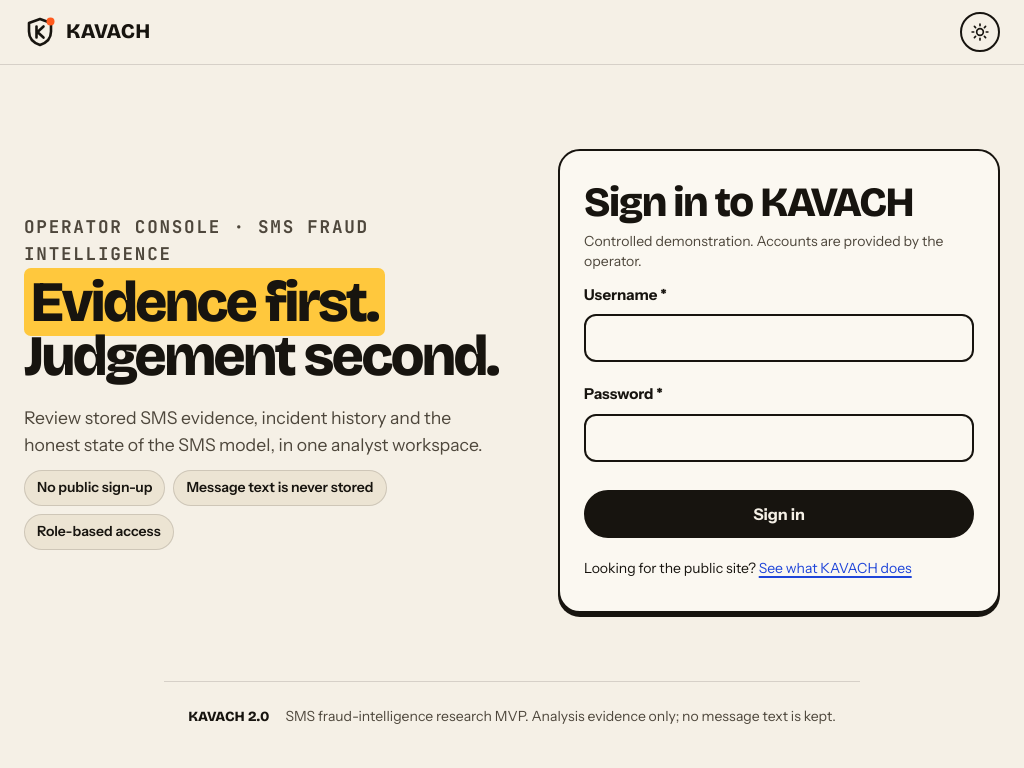
Test: sign in › disables sign-in for the Retry-After period after 429
Type "analyst.one" into the field labelled "Username *" at (779, 338), box x1=584 y1=314 x2=974 y2=362
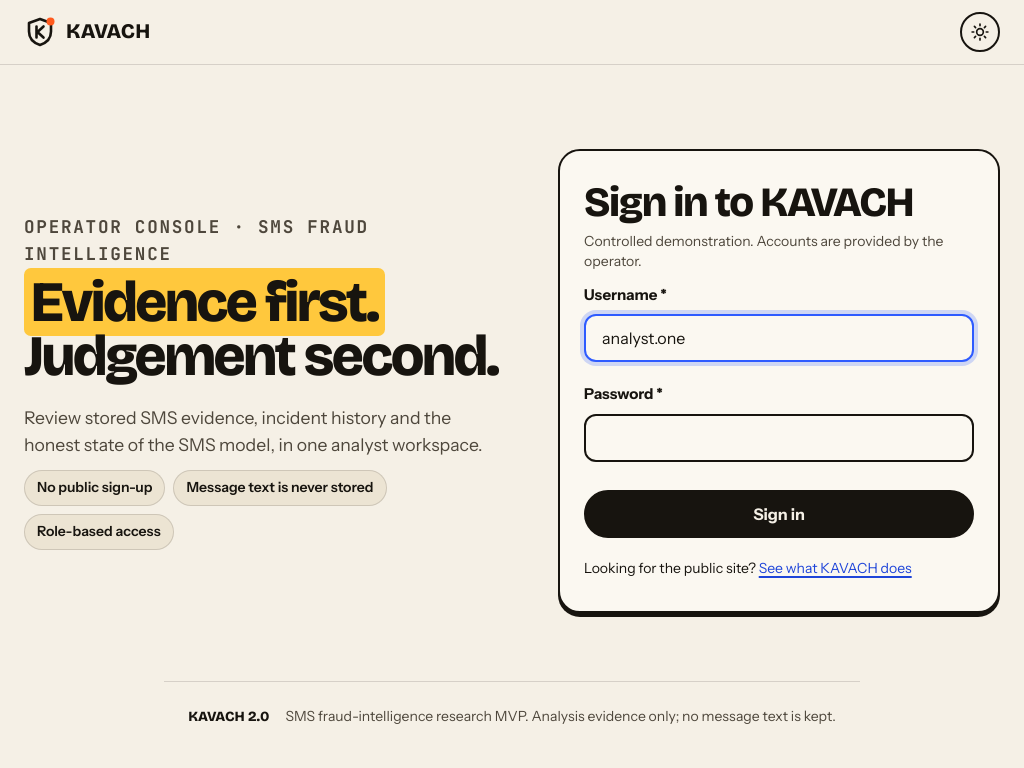
Type "correct horse" into the password field labelled "Password *" at (779, 438), box x1=584 y1=414 x2=974 y2=462
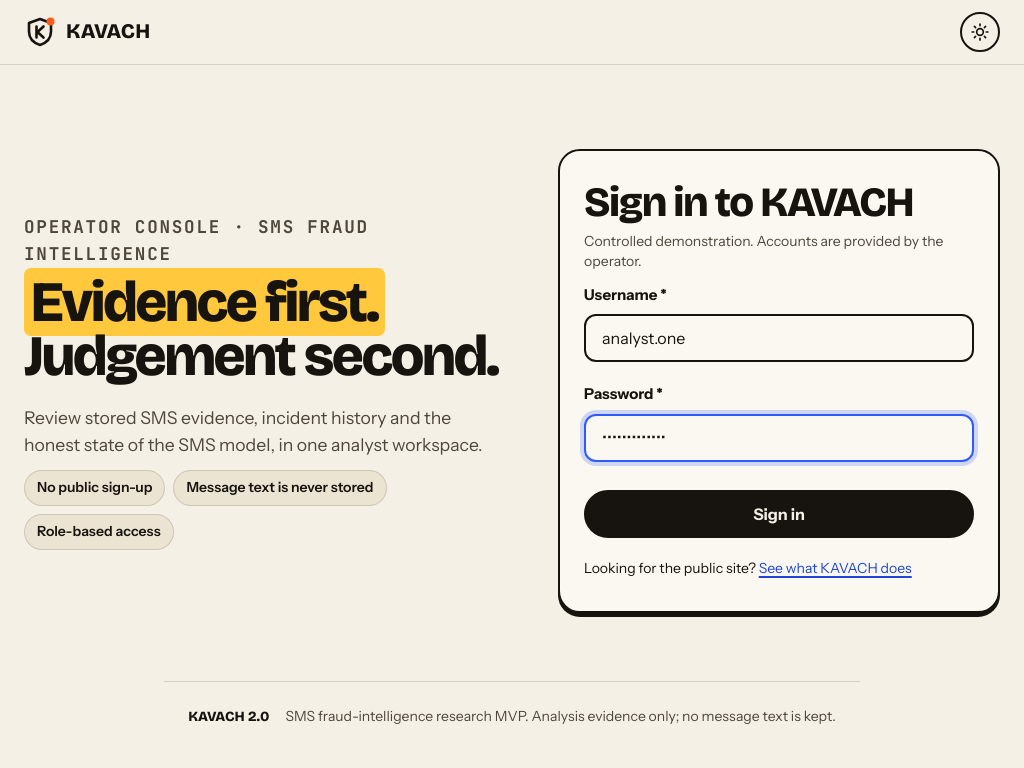
Click the button "Sign in" at (779, 514), box x1=584 y1=490 x2=974 y2=538
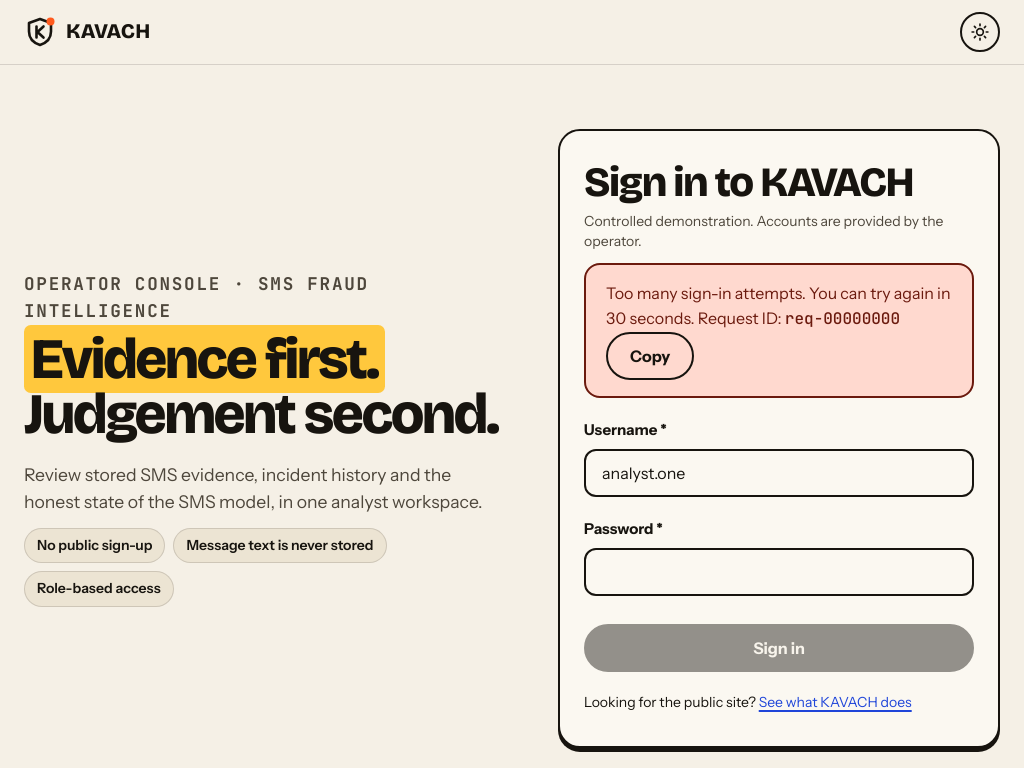
Now the text "Too many sign-in attempts." is shown, box x1=606 y1=283 x2=806 y2=303
Now the text "try again in 30 seconds" is shown, box x1=606 y1=283 x2=950 y2=328
Now the button "Sign in" is disabled, box x1=584 y1=624 x2=974 y2=672
